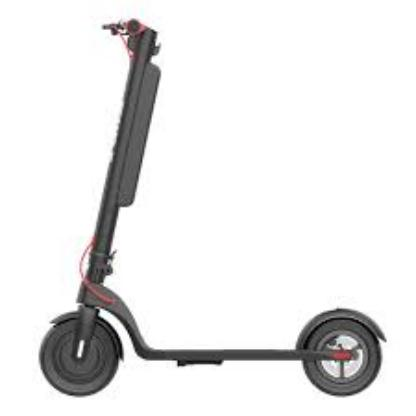bike: (38, 18, 404, 401)
car: (39, 16, 398, 399)
